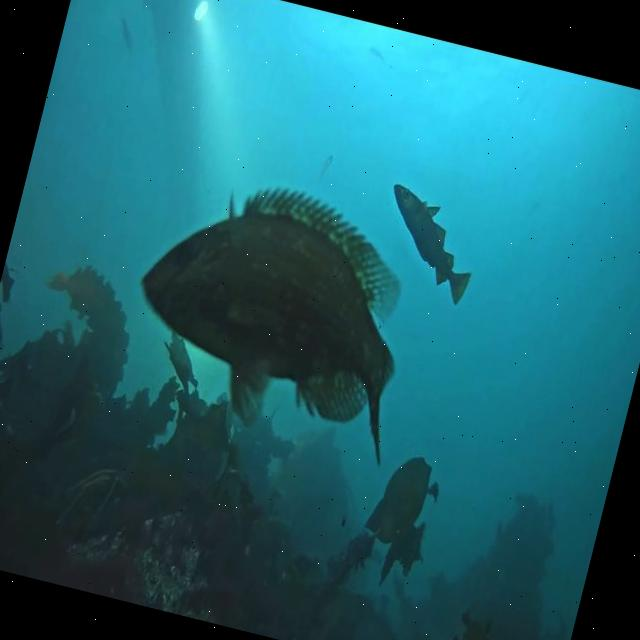fish: (111, 158, 441, 466), (368, 180, 488, 308), (114, 12, 138, 48)
